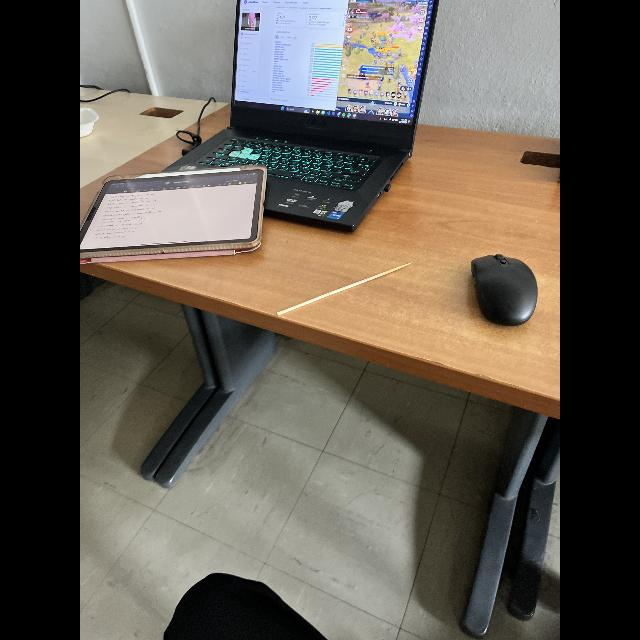stick: (270, 250, 422, 326)
